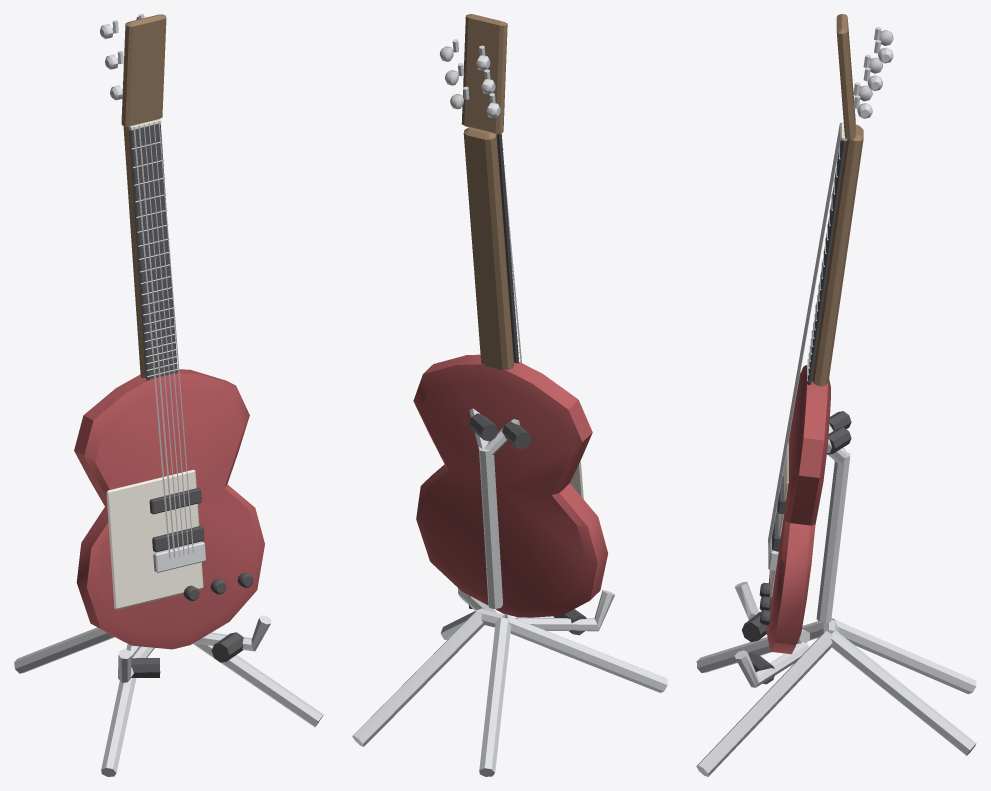
File: music-recording-studio-and-instruments-electric-guitar-7ef7ab5a.glb
3 renders of one model, left to right at view 1: azimuth 30°, elevation 25°; view 2: azimuth 150°, elevation 25°; view 3: azimuth 270°, elevation 25°, orthographic. The views are drawn at different scales.
Visible parts, largest first — view 1: electric-guitar-on-stand; view 2: electric-guitar-on-stand; view 3: electric-guitar-on-stand.
Part boxes in pixels (box(x1,y1,x2,y2)): electric-guitar-on-stand: box(14, 14, 323, 776); electric-guitar-on-stand: box(352, 14, 667, 776); electric-guitar-on-stand: box(696, 14, 976, 776).
Bounding box in the file's own units: 0.4104 × 1.21 × 0.438.
